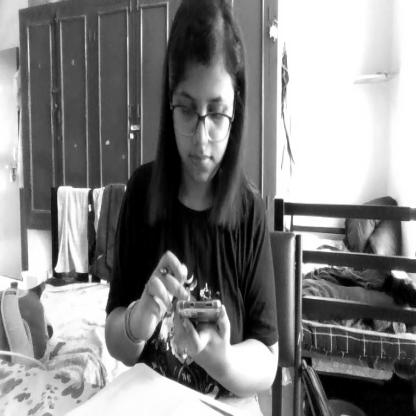Normal: (166, 0, 242, 191)
